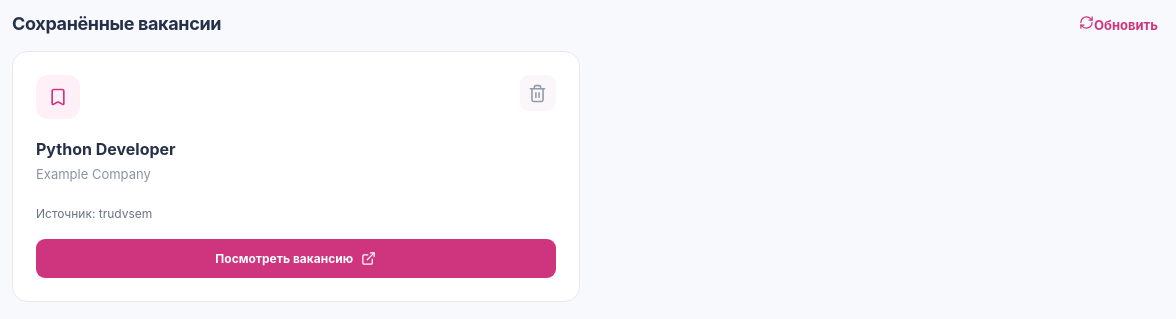
Saved vacancies page › удаляет вакансию из интерфейса
Expected: the heading "Python Developer" is shown, [36, 139, 176, 159]
Click the button named "Удалить сохранённую вакансию". click: click(538, 93)
box: [520, 75, 556, 111]
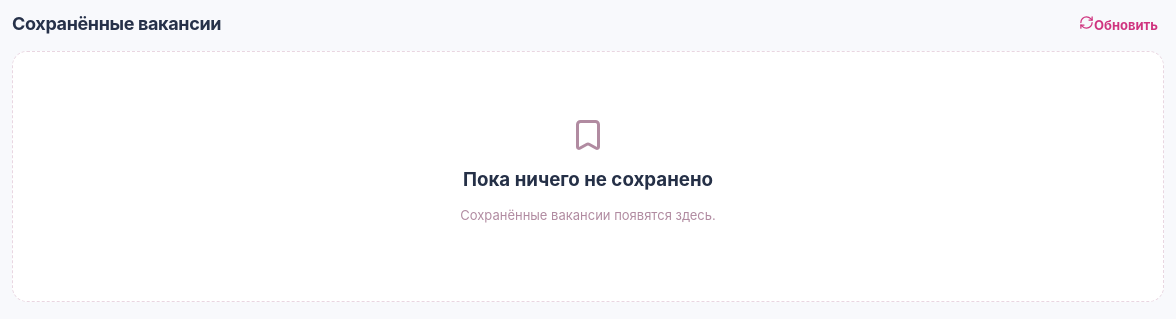
Result: the heading "Python Developer" is gone
Result: the heading "Пока ничего не сохранено" is shown at [463, 168, 713, 191]
